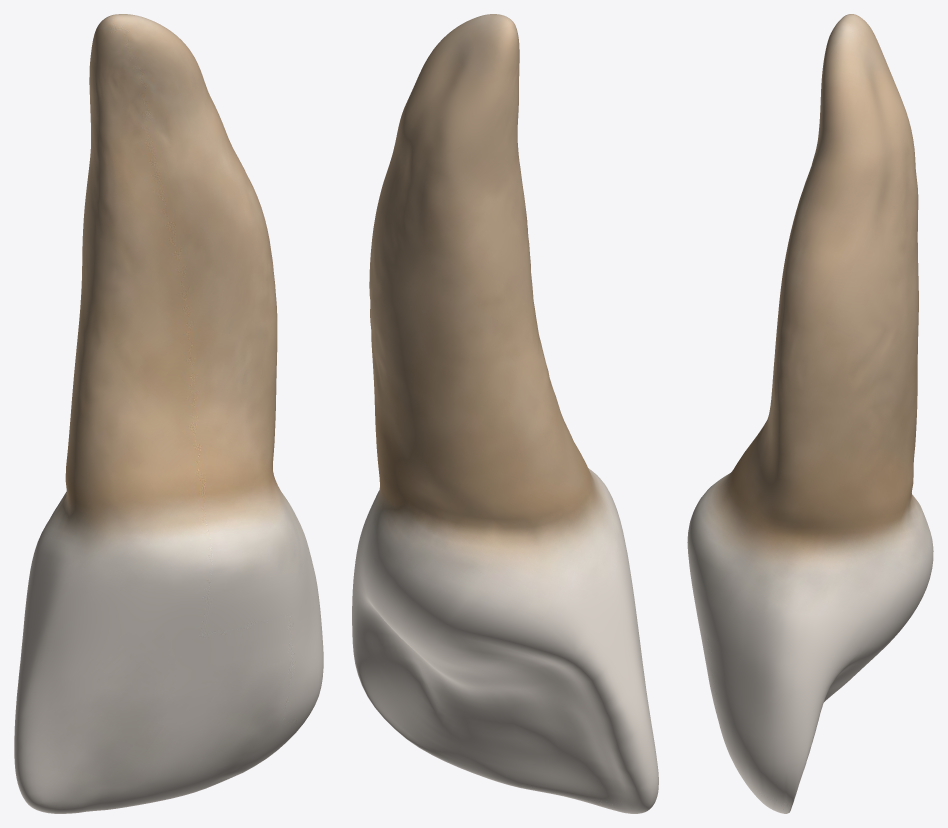
File: primary_upper_left_central_incisor_fdi_61.glb
The picture shows the model from 3 angles, left to right: view 1: azimuth 30°, elevation 25°; view 2: azimuth 150°, elevation 25°; view 3: azimuth 270°, elevation 25°; orthographic projection. The views are drawn at different scales.
Parts seen in each view (by area): view 1: Object_3; view 2: Object_3; view 3: Object_3.
Part boxes in pixels (x1=…): Object_3: x1=14, y1=14, x2=323, y2=813; Object_3: x1=352, y1=14, x2=658, y2=813; Object_3: x1=687, y1=14, x2=933, y2=813.
Bounding box in the file's own units: 2.9 × 7.24 × 2.12.
Materials: 1 (1 with a texture image).
